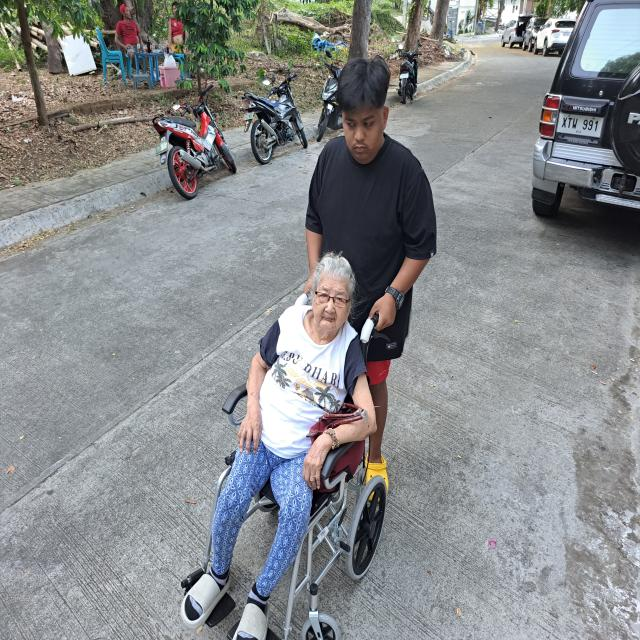wheelchairs: (180, 351, 429, 640)
